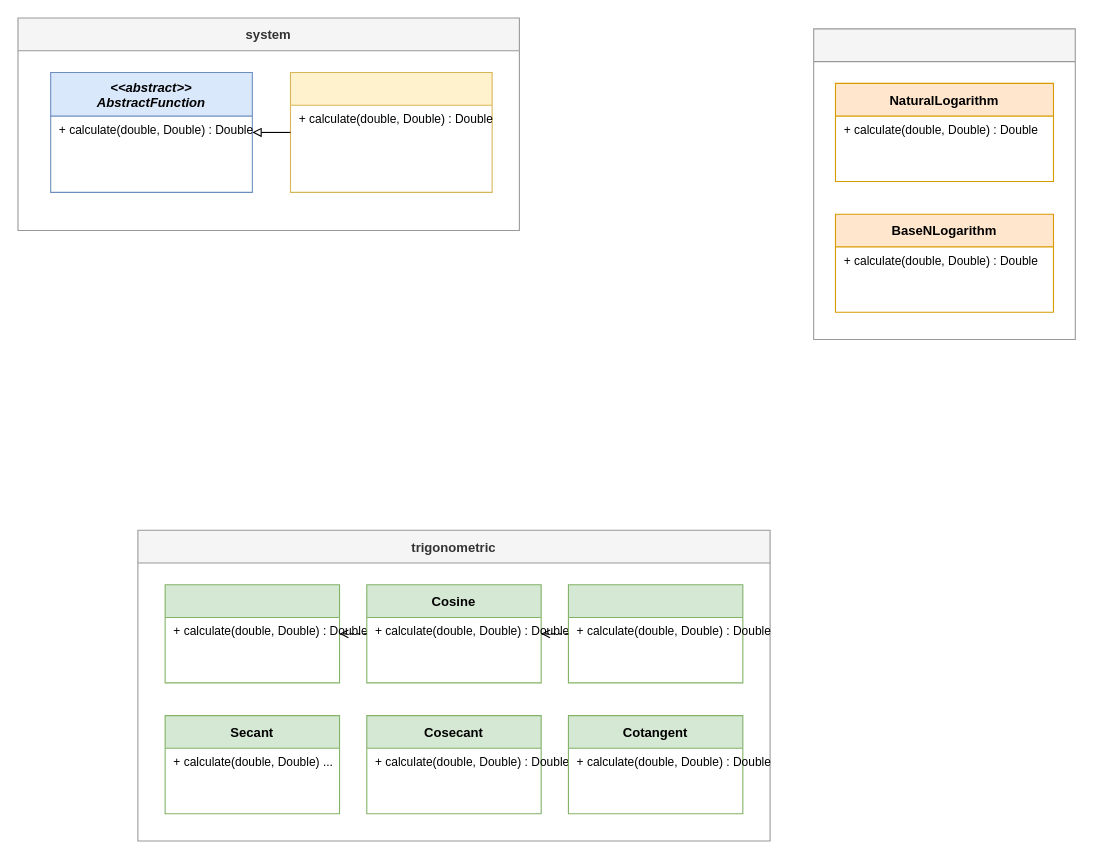
This 1093x859 diagram has some shape labels left out. The box of each missing label's shape, as (x1, y1, x2, y2) in pixels:
EquationSystem: (289, 71, 492, 192)
logarithmic: (813, 28, 1075, 340)
Sine: (164, 584, 340, 683)
Tangent: (567, 584, 743, 683)
